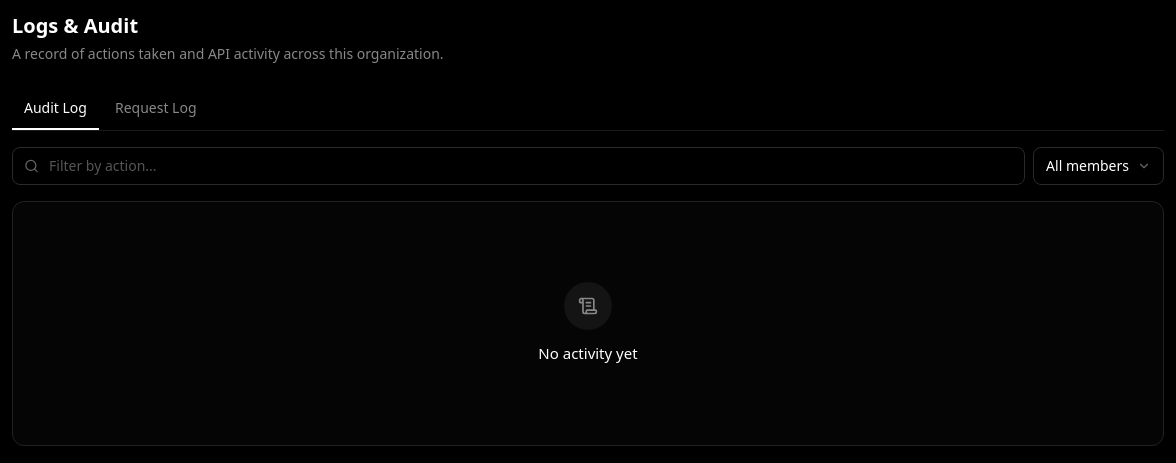
Test case: AuditLogsSettings › switches to the Request Log tab and renders entries
The width and height of the screenshot is (1176, 463).
Click the button "Request Log": (156, 109) x1=103 y1=88 x2=208 y2=130
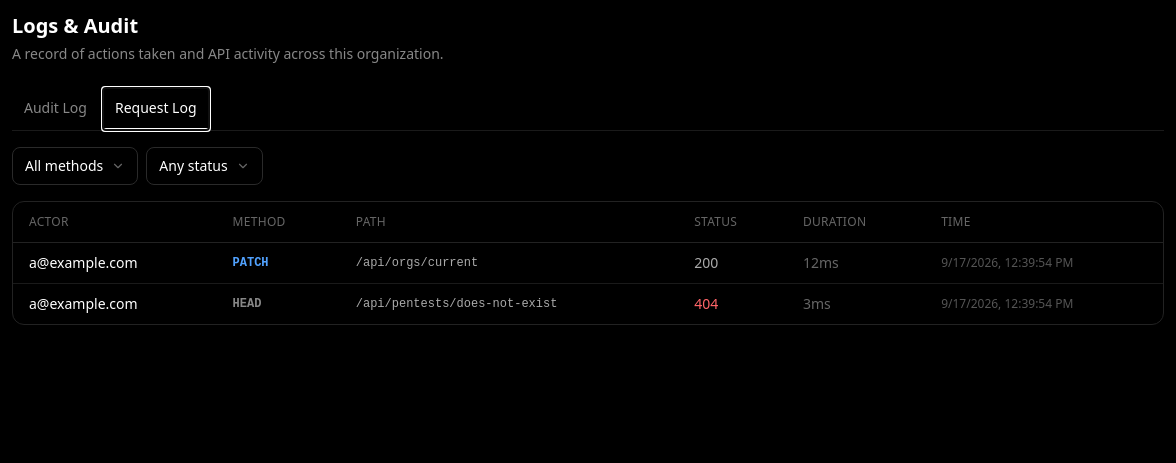
Expected: the text "/api/orgs/current" is shown, x1=340 y1=242 x2=678 y2=284
Expected: the text "PATCH" is shown, x1=217 y1=242 x2=340 y2=284
Expected: the text "HEAD" is shown, x1=217 y1=284 x2=340 y2=324
